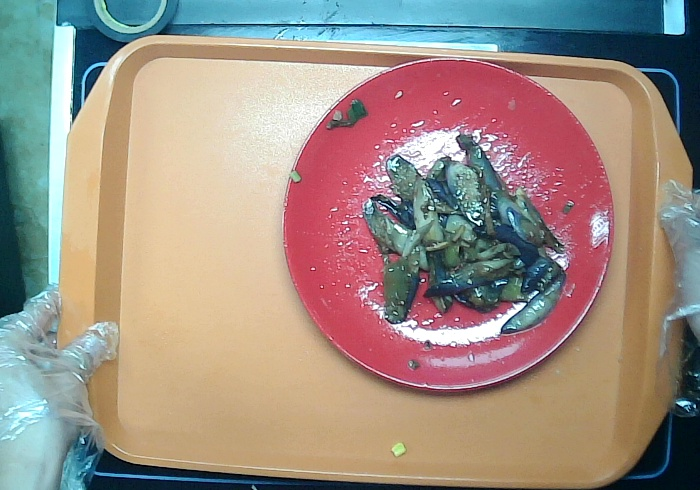HZYJPL-Hong_Se_Yuan_Pan: (277, 52, 622, 396)
